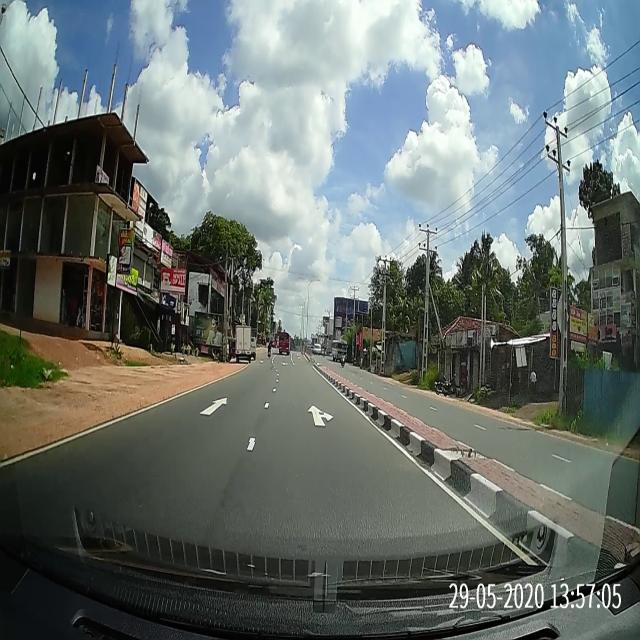forward_right: (247, 398, 399, 442), (251, 404, 390, 434), (254, 410, 377, 425), (258, 406, 375, 420)
